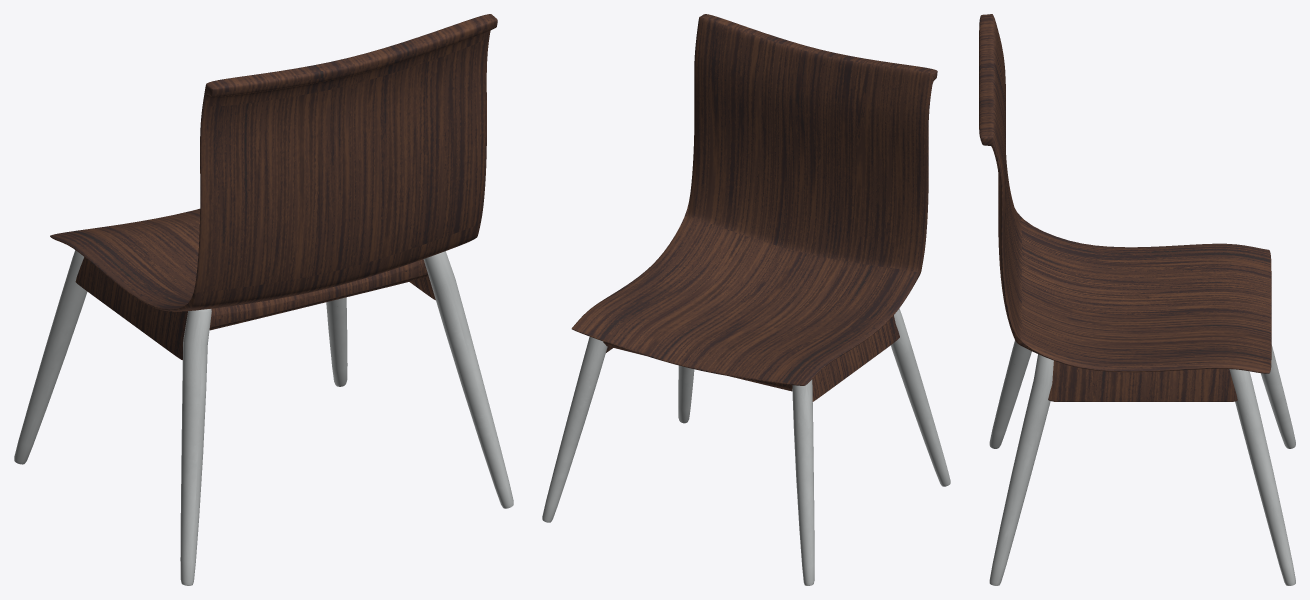
The model's file is Office Chair.obj.
The picture shows the model from 3 angles, left to right: view 1: azimuth 30°, elevation 25°; view 2: azimuth 150°, elevation 25°; view 3: azimuth 270°, elevation 25°; orthographic projection. The views are drawn at different scales.
Parts seen in each view (by area): view 1: Classic_Chair; view 2: Classic_Chair; view 3: Classic_Chair.
Boxes of the visible parts, x1,y1,x2,y2 form: Classic_Chair: [14, 14, 513, 585]; Classic_Chair: [542, 14, 950, 585]; Classic_Chair: [979, 14, 1295, 585].
Bounding box in the file's own units: 2.31 × 3.33 × 2.17.
